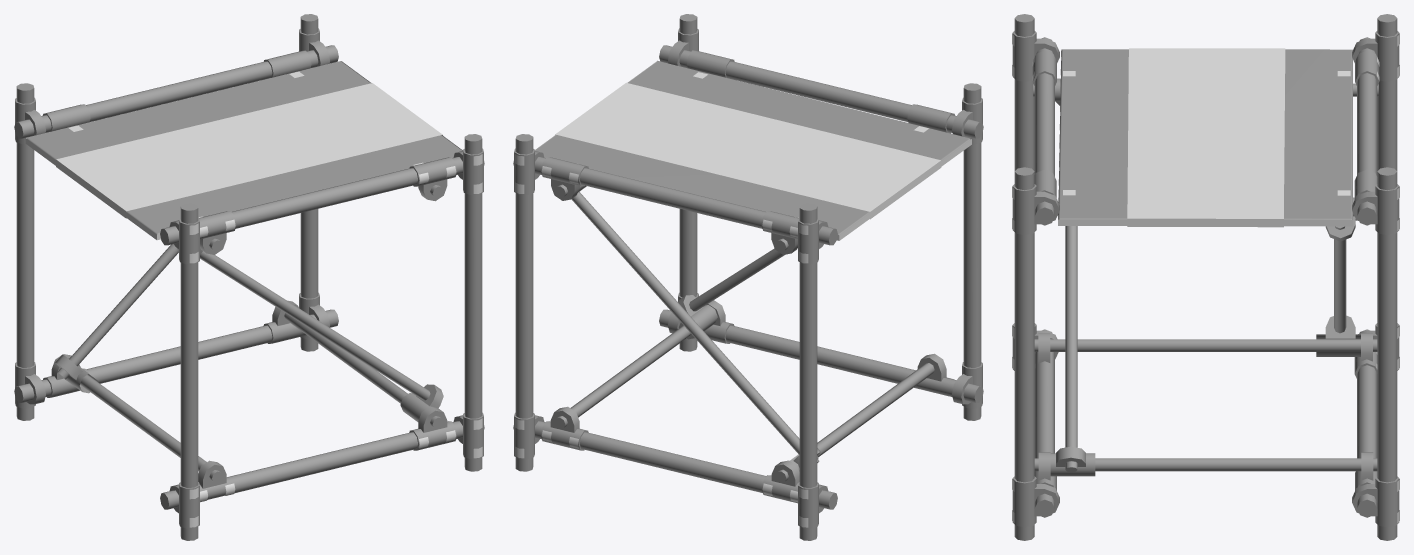
Rendered from ScaffoldingTop.fbx.
3 views of the same model, side by side, from view 1: azimuth 30°, elevation 25°; view 2: azimuth 150°, elevation 25°; view 3: azimuth 270°, elevation 25° (orthographic). The views are drawn at different scales.
Parts seen in each view (by area): view 1: Cube.014, StylizedHardSurface_Panels_003.013, Cube.019, StylizedHardSurface_Panels_007.024; view 2: Cube.014, StylizedHardSurface_Panels_003.013, Cube.019, StylizedHardSurface_Panels_007.024; view 3: Cube.014, StylizedHardSurface_Panels_003.013, Cube.019, StylizedHardSurface_Panels_007.024.
Part boxes in pixels (x1,y1,x2,y2): Cube.014: [14, 14, 484, 540]; StylizedHardSurface_Panels_003.013: [56, 83, 442, 218]; Cube.019: [27, 61, 461, 234]; StylizedHardSurface_Panels_007.024: [25, 61, 462, 240]; Cube.014: [513, 14, 983, 540]; StylizedHardSurface_Panels_003.013: [555, 82, 941, 219]; Cube.019: [535, 61, 970, 235]; StylizedHardSurface_Panels_007.024: [535, 60, 971, 240]; Cube.014: [1012, 14, 1399, 540]; StylizedHardSurface_Panels_003.013: [1127, 48, 1285, 227]; Cube.019: [1058, 49, 1352, 219]; StylizedHardSurface_Panels_007.024: [1058, 49, 1352, 226].
Bounding box in the file's own units: 201 × 200 × 193.
